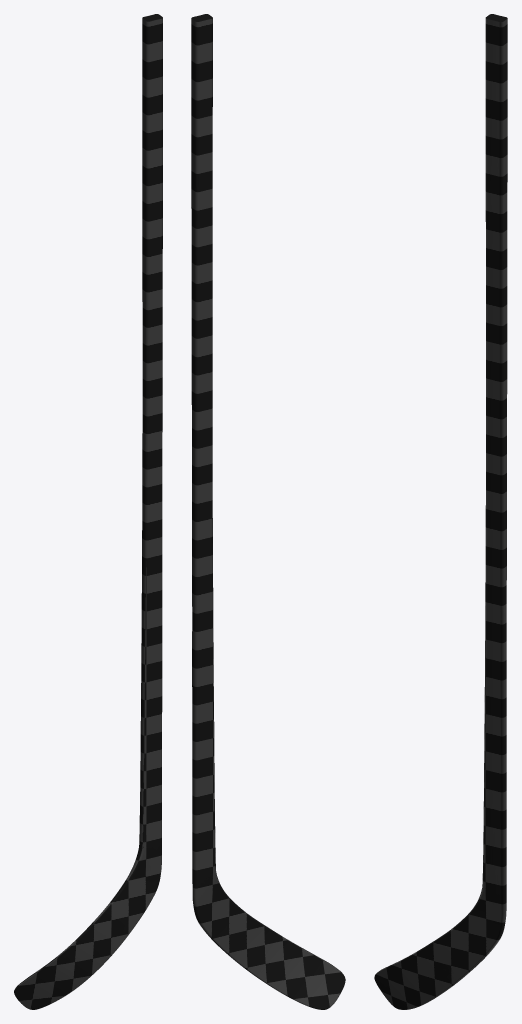
The model's file is P117-SBT.glb.
3 renders of one model, left to right at view 1: azimuth 30°, elevation 25°; view 2: azimuth 210°, elevation 25°; view 3: azimuth 330°, elevation 25°, orthographic. The views are drawn at different scales.
Parts seen in each view (by area): view 1: geometry_0; view 2: geometry_0; view 3: geometry_0.
Part boxes in pixels (x1,y1,x2,y2): geometry_0: (14,14,162,1009); geometry_0: (191,14,345,1009); geometry_0: (374,14,507,1009).
Bounding box in the file's own units: 240 × 1650 × 51.06.
Materials: 1 (1 with a texture image).
